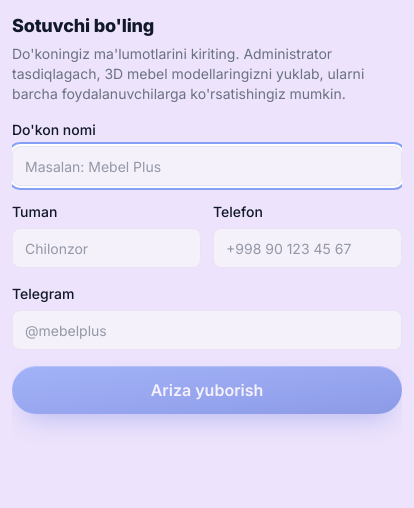
Test case: StoreApplyForm validation error › keeps the server's message as received
Step 1. Type "Mebel+" into the field with placeholder "Masalan: Mebel Plus" → (207, 166), box left=12, top=146, right=402, bottom=186
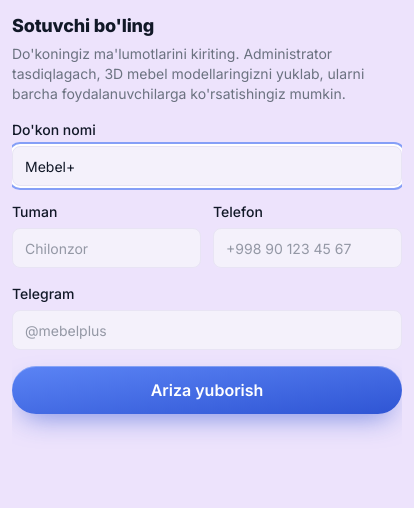
Step 2. Click the button "Ariza yuborish" → (207, 390), box left=12, top=366, right=402, bottom=414
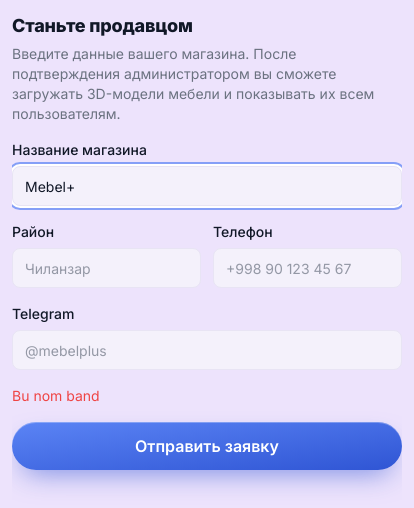
Expected: the message reads "Bu nom band", left=12, top=387, right=100, bottom=404
